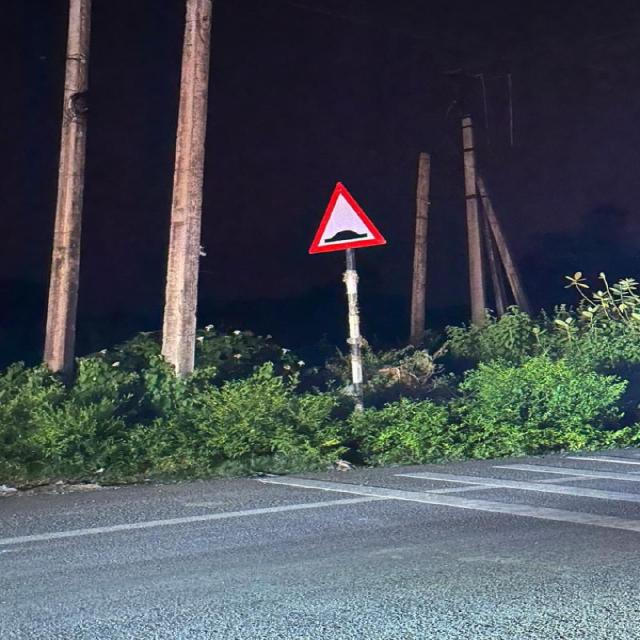Bump: (307, 175, 384, 257)
